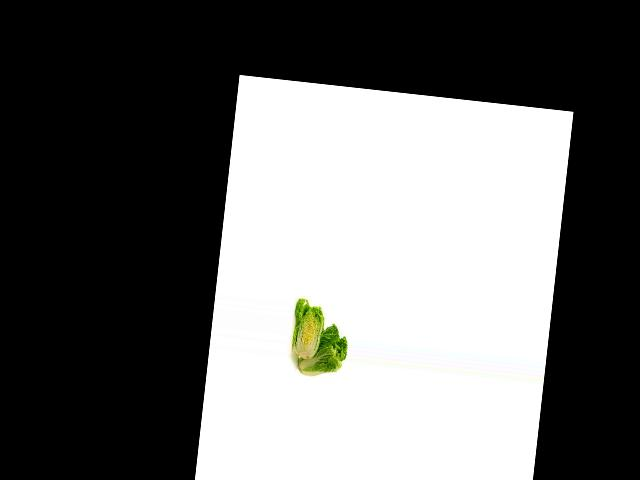lettuce: (293, 317, 352, 381)
